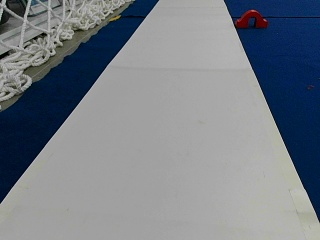bridge: (236, 9, 267, 27)
